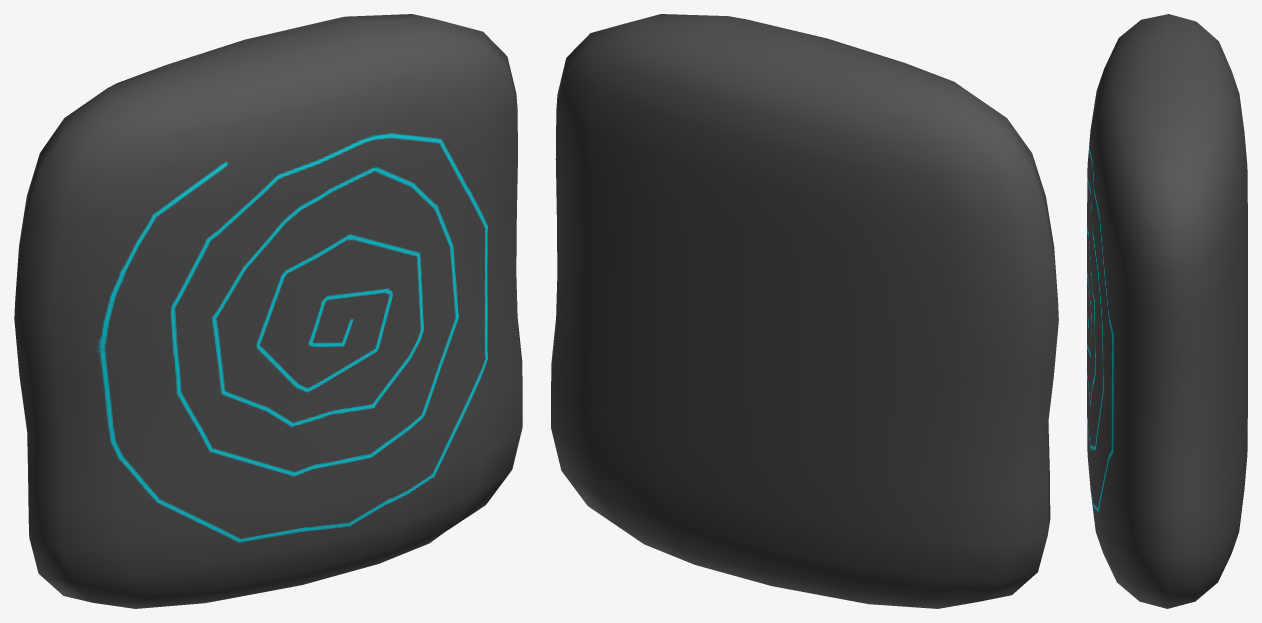
Rendered from Blue_Target.fbx.
3 renders of one model, left to right at view 1: azimuth 30°, elevation 25°; view 2: azimuth 150°, elevation 25°; view 3: azimuth 270°, elevation 25°, orthographic. The views are drawn at different scales.
Visible parts, largest first — view 1: Target_Blue.LP; view 2: Target_Blue.LP; view 3: Target_Blue.LP.
Boxes of the visible parts, bbox=[...] form: Target_Blue.LP: bbox=[14, 14, 522, 608]; Target_Blue.LP: bbox=[551, 14, 1058, 608]; Target_Blue.LP: bbox=[1087, 14, 1247, 608].
Bounding box in the file's own units: 139 × 141 × 42.77.
1 material, 1 textured.
